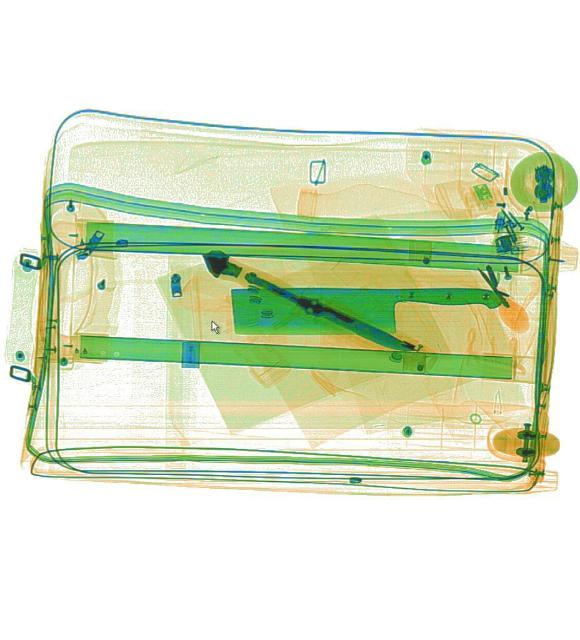Knife: (241, 266, 417, 360), (231, 284, 502, 338)
